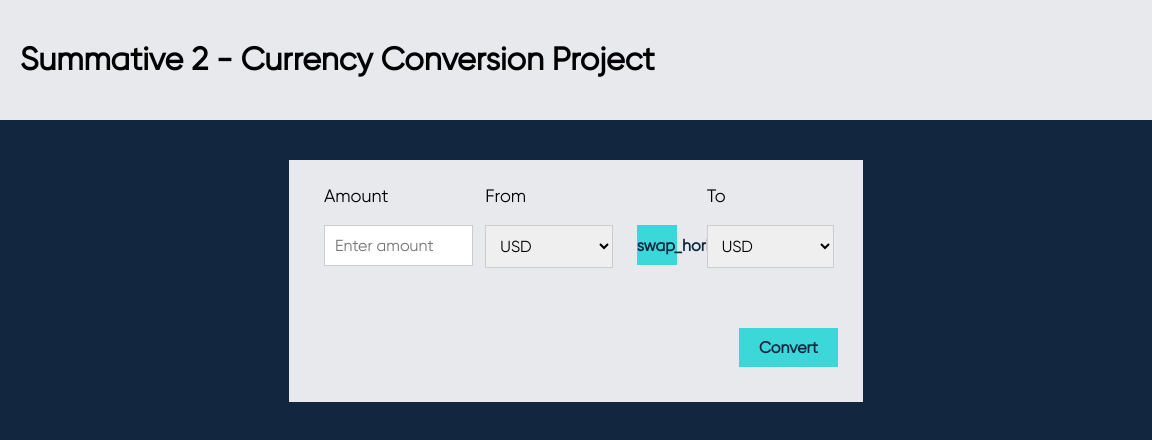
Test suite confirms functionality of critical UI elements › should handle conversion failure and show an error message
Simulate user input
Type "100" into the field with test id "amountElement".
click(399, 246); type("100")  # box [324, 225, 473, 266]
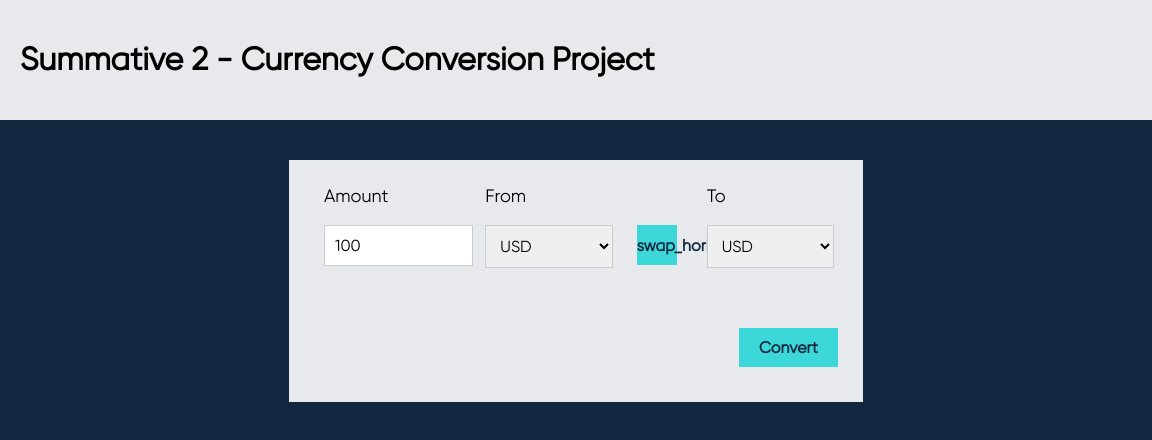
Select "USD" in the dropdown with test id "currencyFromSelectElement" at (549, 246), box [485, 225, 612, 268]
Select "EUR" in the dropdown with test id "currencyToSelectElement" at (770, 246), box [707, 225, 834, 268]
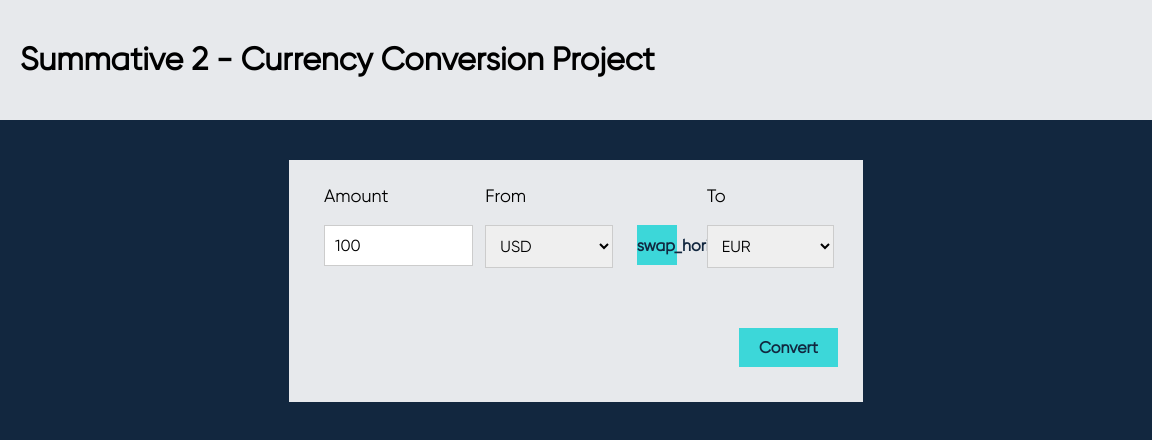
Simulate conversion
Click the button with test id "convertButton".
click(788, 348)  # box [739, 328, 838, 367]
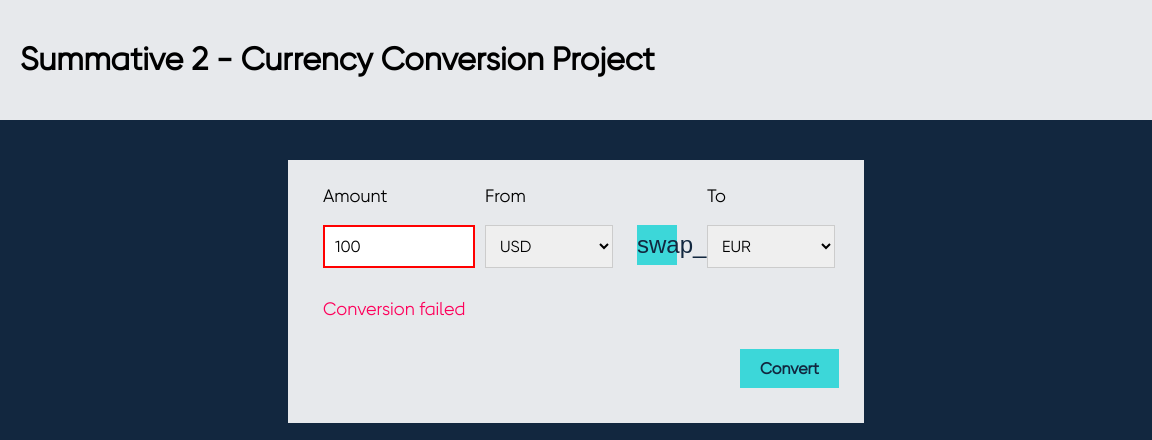
Now the text with test id "errorField" reads "Conversion failed", box [323, 298, 465, 319]
